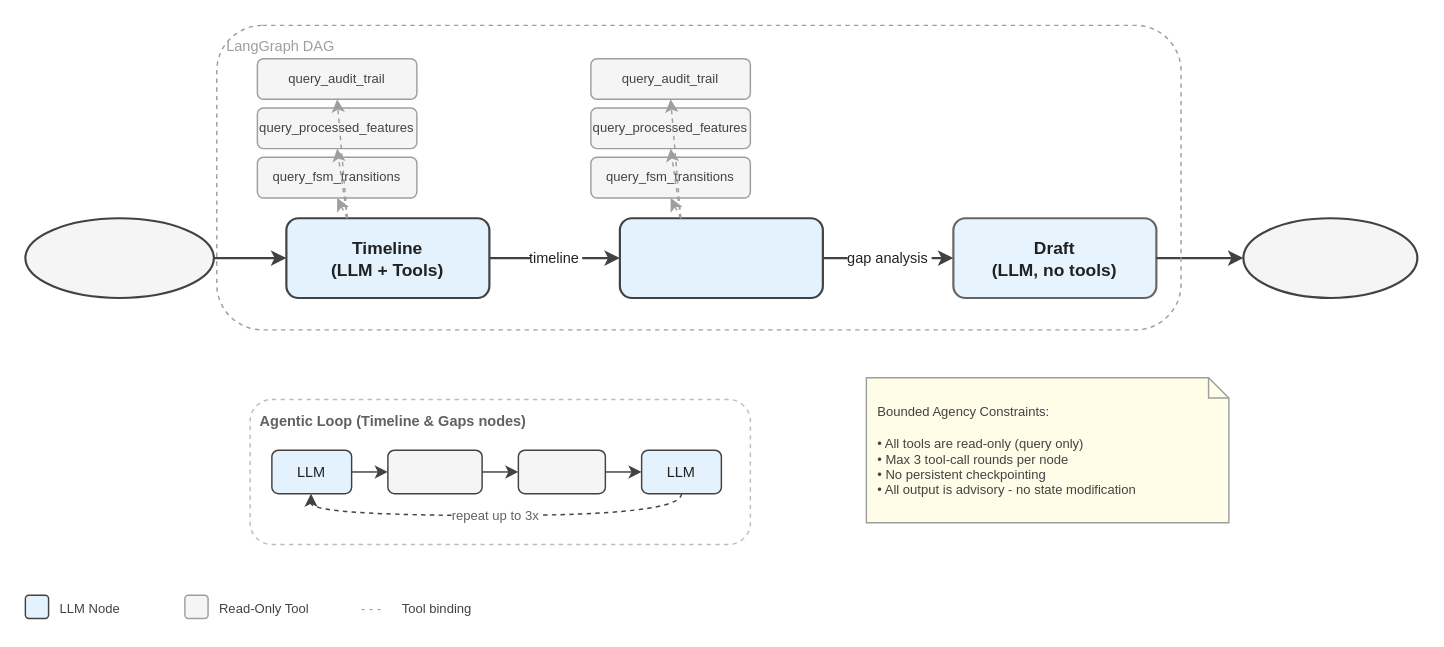
This 1444x647 diagram has some shape labels left out. Each missing label, with the centre of its shape:
"After-Action Report" belongs at pixel 1330 257.
"event_id (post-event trigger)" belongs at pixel 119 257.
"Gaps (LLM + Tools)" belongs at pixel 720 257.
"tool_call" belongs at pixel 434 471.
"ToolMsg" belongs at pixel 561 471.
